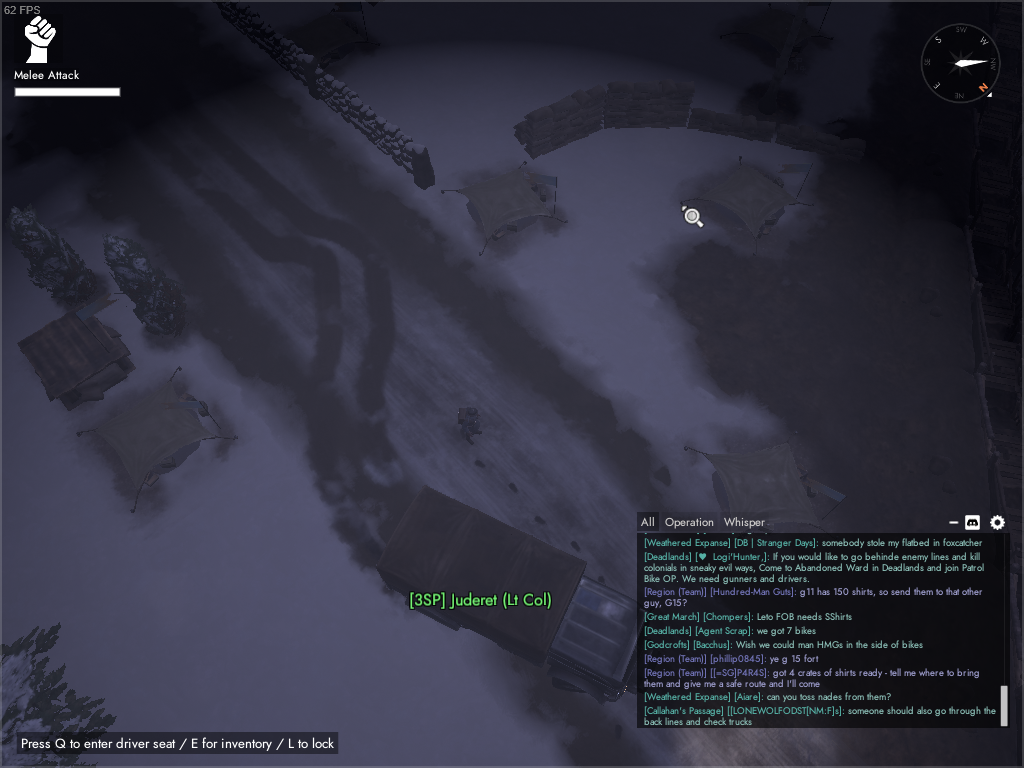foxhole: (74, 366, 240, 516), (679, 426, 848, 553), (678, 154, 819, 256), (440, 159, 572, 257), (711, 1, 836, 84), (273, 1, 378, 77)
pillbox: (17, 311, 138, 414)
player: (456, 405, 484, 447)
sandbag: (512, 83, 606, 160), (776, 121, 871, 170), (606, 78, 695, 130), (689, 106, 777, 146)
truck: (374, 485, 651, 706)
